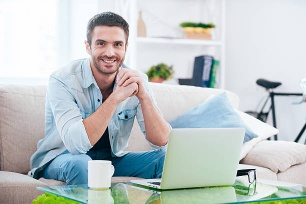male: (83, 11, 132, 76)
